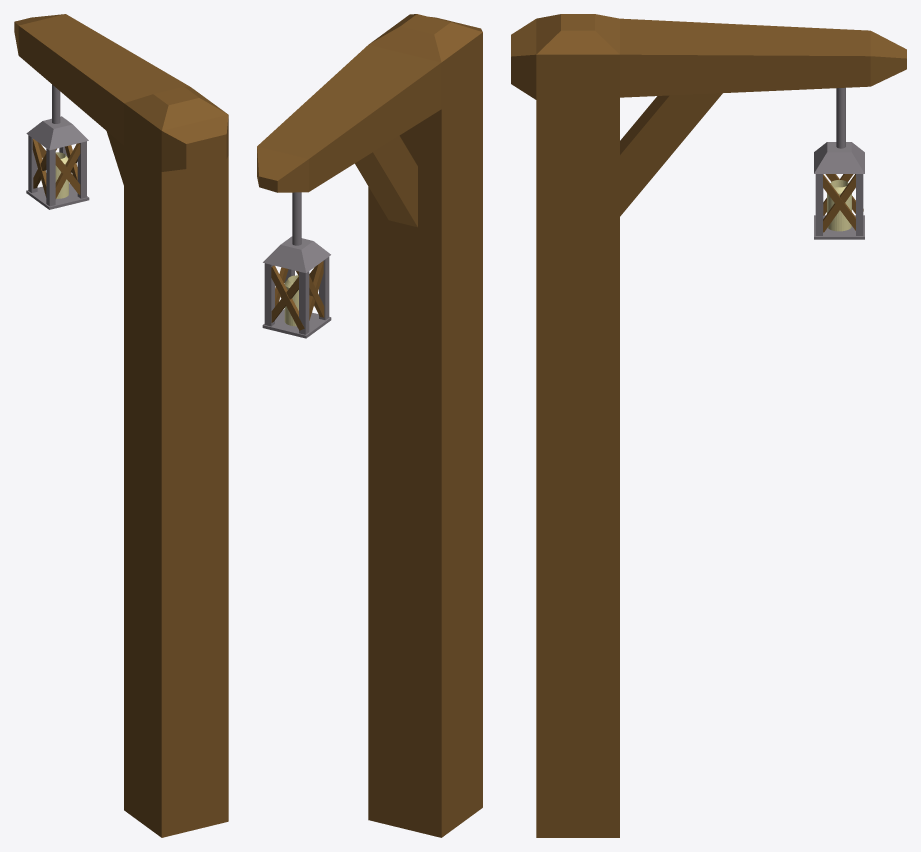
Rendered from StreetLantern.fbx.
3 renders of one model, left to right at view 1: azimuth 30°, elevation 25°; view 2: azimuth 150°, elevation 25°; view 3: azimuth 270°, elevation 25°, orthographic. The views are drawn at different scales.
Visible parts, largest first — view 1: Tolppa; view 2: Tolppa; view 3: Tolppa.
Part boxes in pixels (<box>): Tolppa: <box>14,14,228,837</box>; Tolppa: <box>257,14,482,837</box>; Tolppa: <box>511,14,906,837</box>.
Bounding box in the file's own units: 78.75 × 812 × 365.
